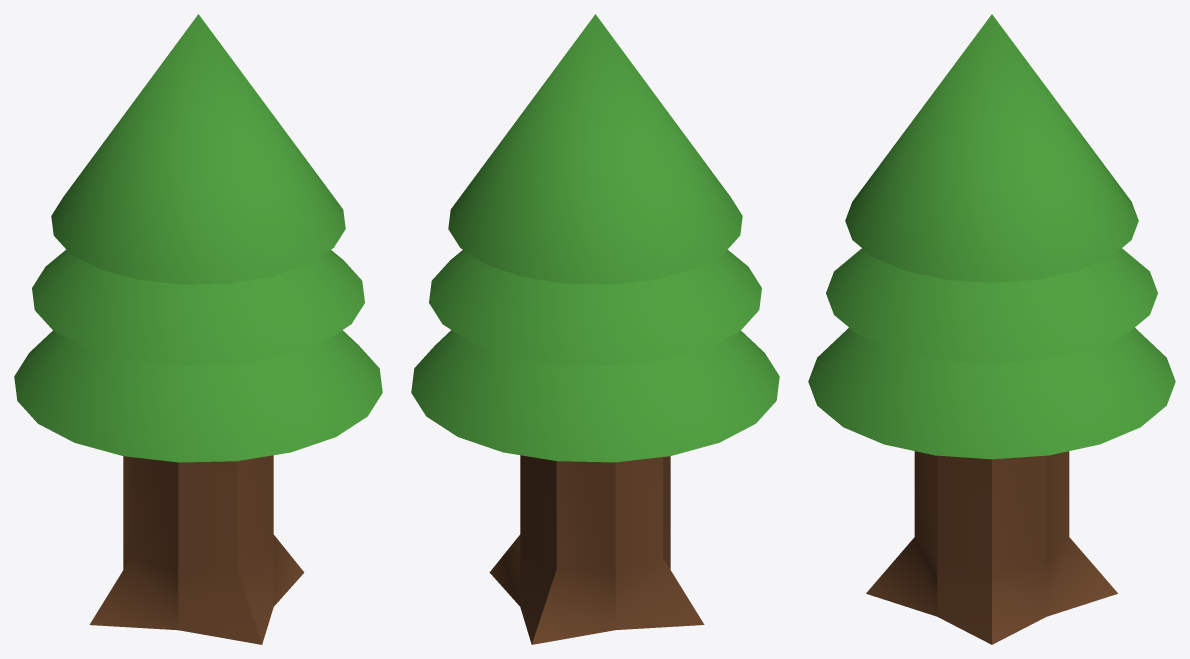
File: tree.fbx
3 renders of one model, left to right at view 1: azimuth 30°, elevation 25°; view 2: azimuth 150°, elevation 25°; view 3: azimuth 270°, elevation 25°, orthographic.
Visible parts, largest first — view 1: pCylinder2; view 2: pCylinder2; view 3: pCylinder2.
Part boxes in pixels (x1,y1,x2,y2): pCylinder2: (14,14,382,644); pCylinder2: (411,14,779,644); pCylinder2: (808,14,1175,644).
Bounding box in the file's own units: 2.42 × 4.2 × 2.42.
